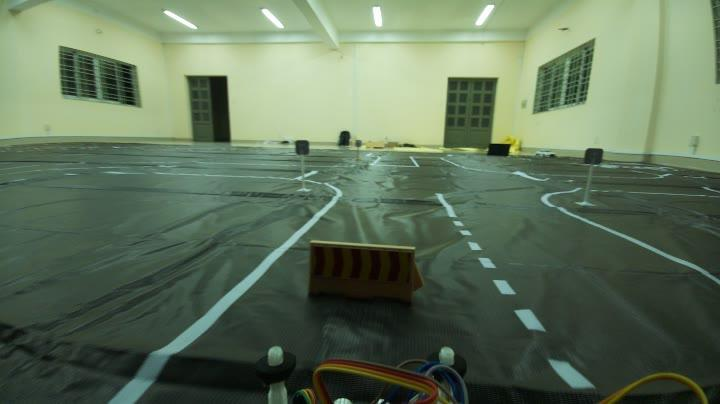roadblock: (305, 236, 426, 310)
